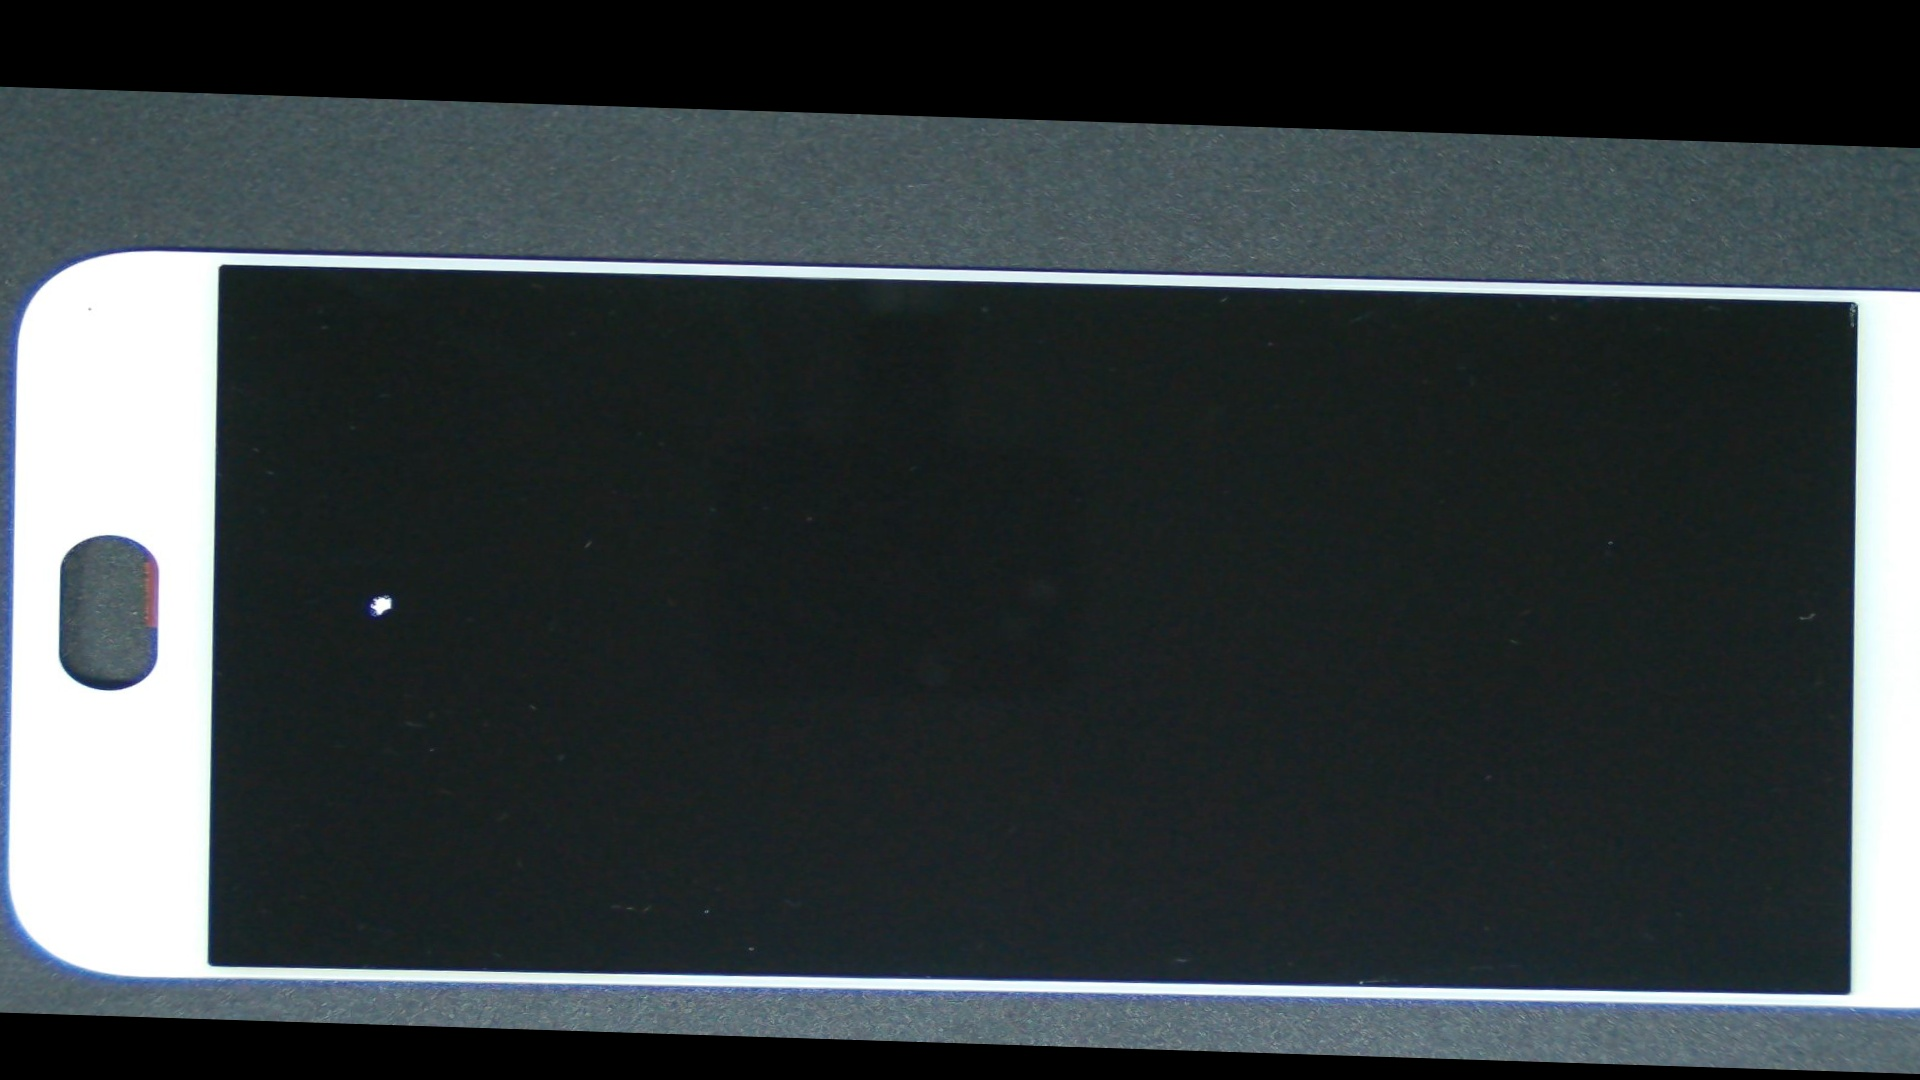oil: (144, 339, 630, 849)
